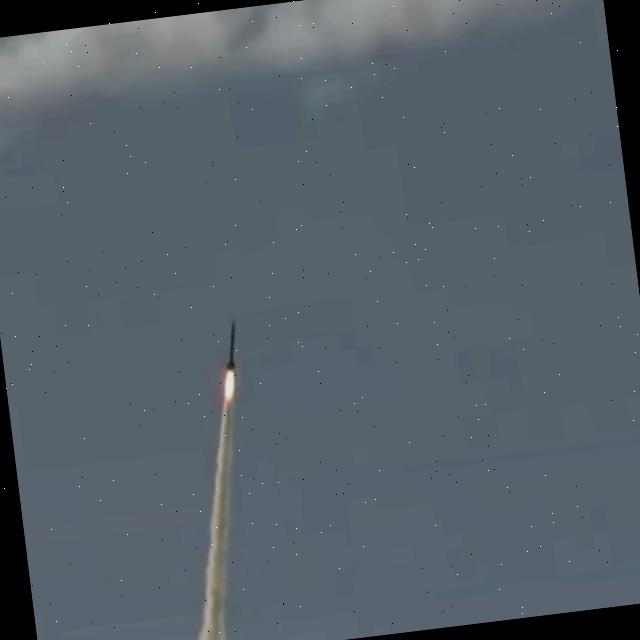rocket: (223, 325, 236, 372), (224, 379, 233, 393)
smoke_trail_with_rocket: (196, 326, 237, 640)
